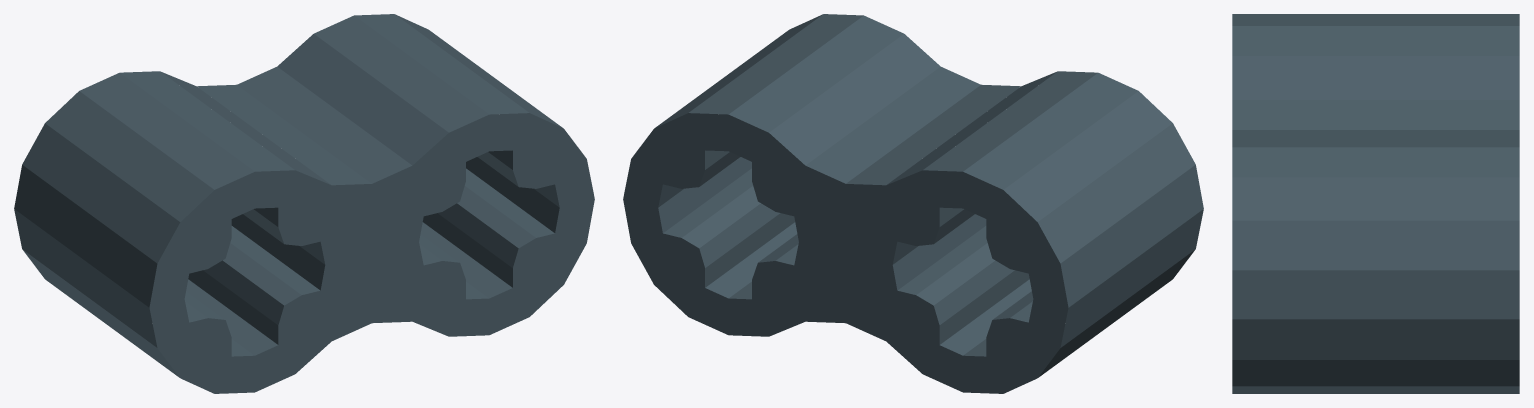
3 renders of one model, left to right at view 1: azimuth 30°, elevation 25°; view 2: azimuth 150°, elevation 25°; view 3: azimuth 270°, elevation 25°, orthographic. The views are drawn at different scales.
Visible parts, largest first — view 1: world; view 2: world; view 3: world.
Part boxes in pixels (bbox=[...]): world: bbox=[14, 14, 594, 393]; world: bbox=[623, 14, 1203, 393]; world: bbox=[1232, 14, 1519, 393].
Size of the model in its own units: 0.0152 by 0.0072 by 0.008.
